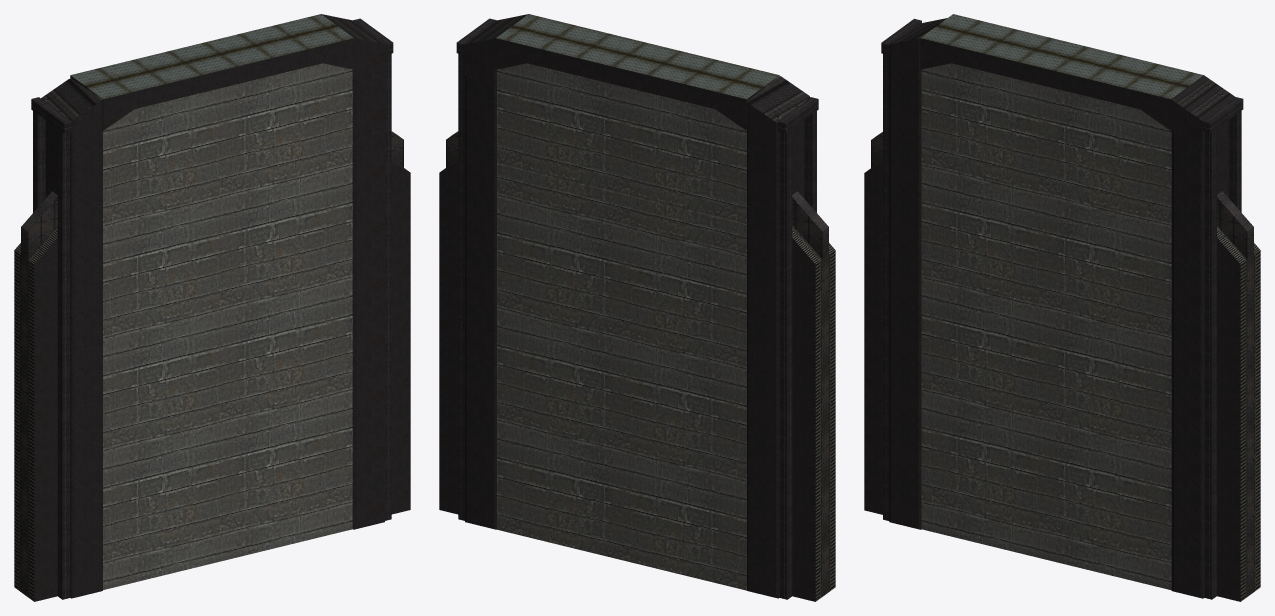
The model's file is bridgewall3frost2.fbx.
3 renders of one model, left to right at view 1: azimuth 30°, elevation 25°; view 2: azimuth 150°, elevation 25°; view 3: azimuth 330°, elevation 25°, orthographic.
Parts seen in each view (by area): view 1: Object; view 2: Object; view 3: Object.
Part boxes in pixels (x1,y1,x2,y2): Object: (14, 14, 410, 601); Object: (439, 14, 835, 601); Object: (864, 14, 1260, 601).
Bounding box in the file's own units: 5600 × 7003 × 850.
